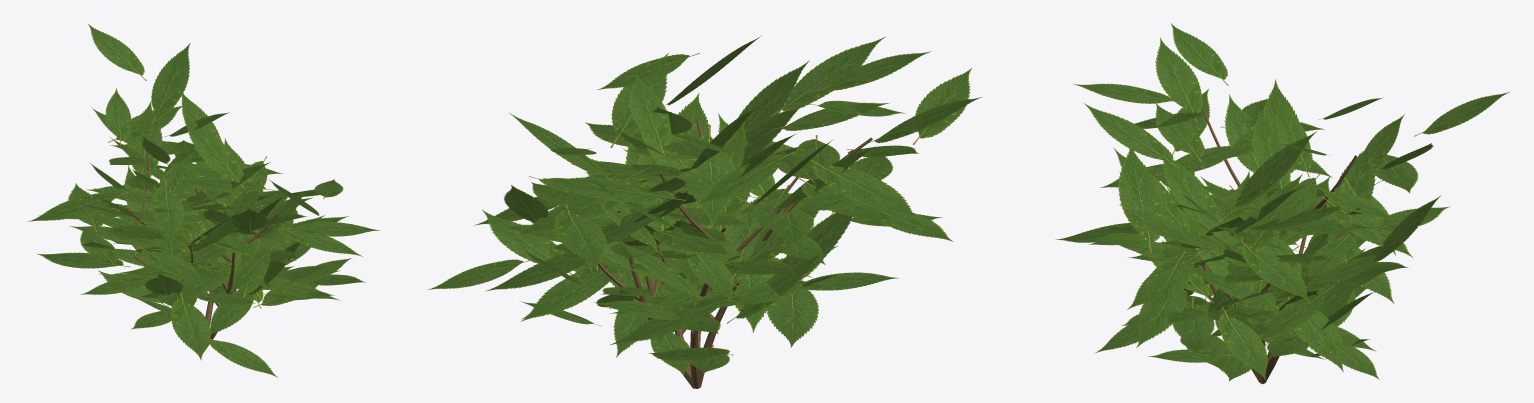
Rendered from shrub_wild.glb.
The picture shows the model from 3 angles, left to right: view 1: azimuth 30°, elevation 25°; view 2: azimuth 150°, elevation 25°; view 3: azimuth 270°, elevation 25°; orthographic projection. The views are drawn at different scales.
Parts seen in each view (by area): view 1: Dense broad leaves, Shrub branches; view 2: Dense broad leaves, Shrub branches; view 3: Dense broad leaves, Shrub branches.
Part boxes in pixels (box(x1,y1,x2,y2)): Dense broad leaves: box(27, 24, 380, 377); Shrub branches: box(123, 135, 278, 349); Dense broad leaves: box(427, 36, 981, 375); Shrub branches: box(597, 120, 872, 388); Dense broad leaves: box(1055, 23, 1509, 381); Shrub branches: box(1172, 109, 1356, 384).
Size of the model in its own units: 3.37 by 2.32 by 3.48.
Materials: 2 (1 with a texture image).
